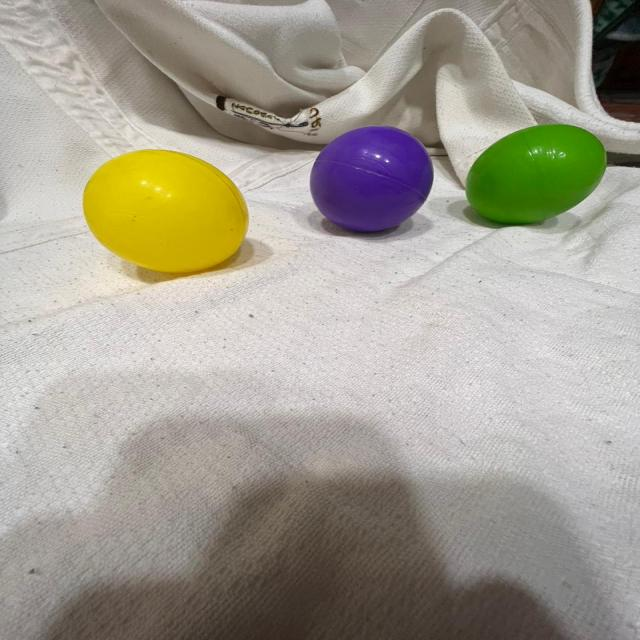ball: (77, 147, 252, 276), (305, 123, 437, 235), (464, 122, 608, 224)
